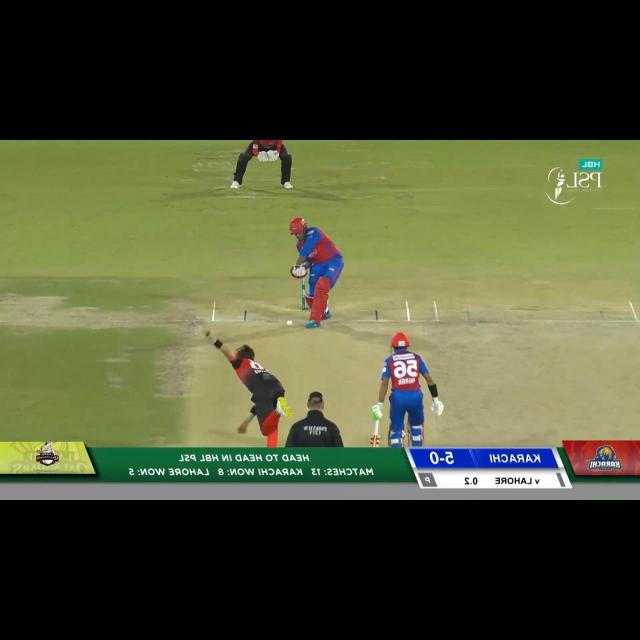bat: (369, 434, 382, 448), (301, 262, 310, 270)
